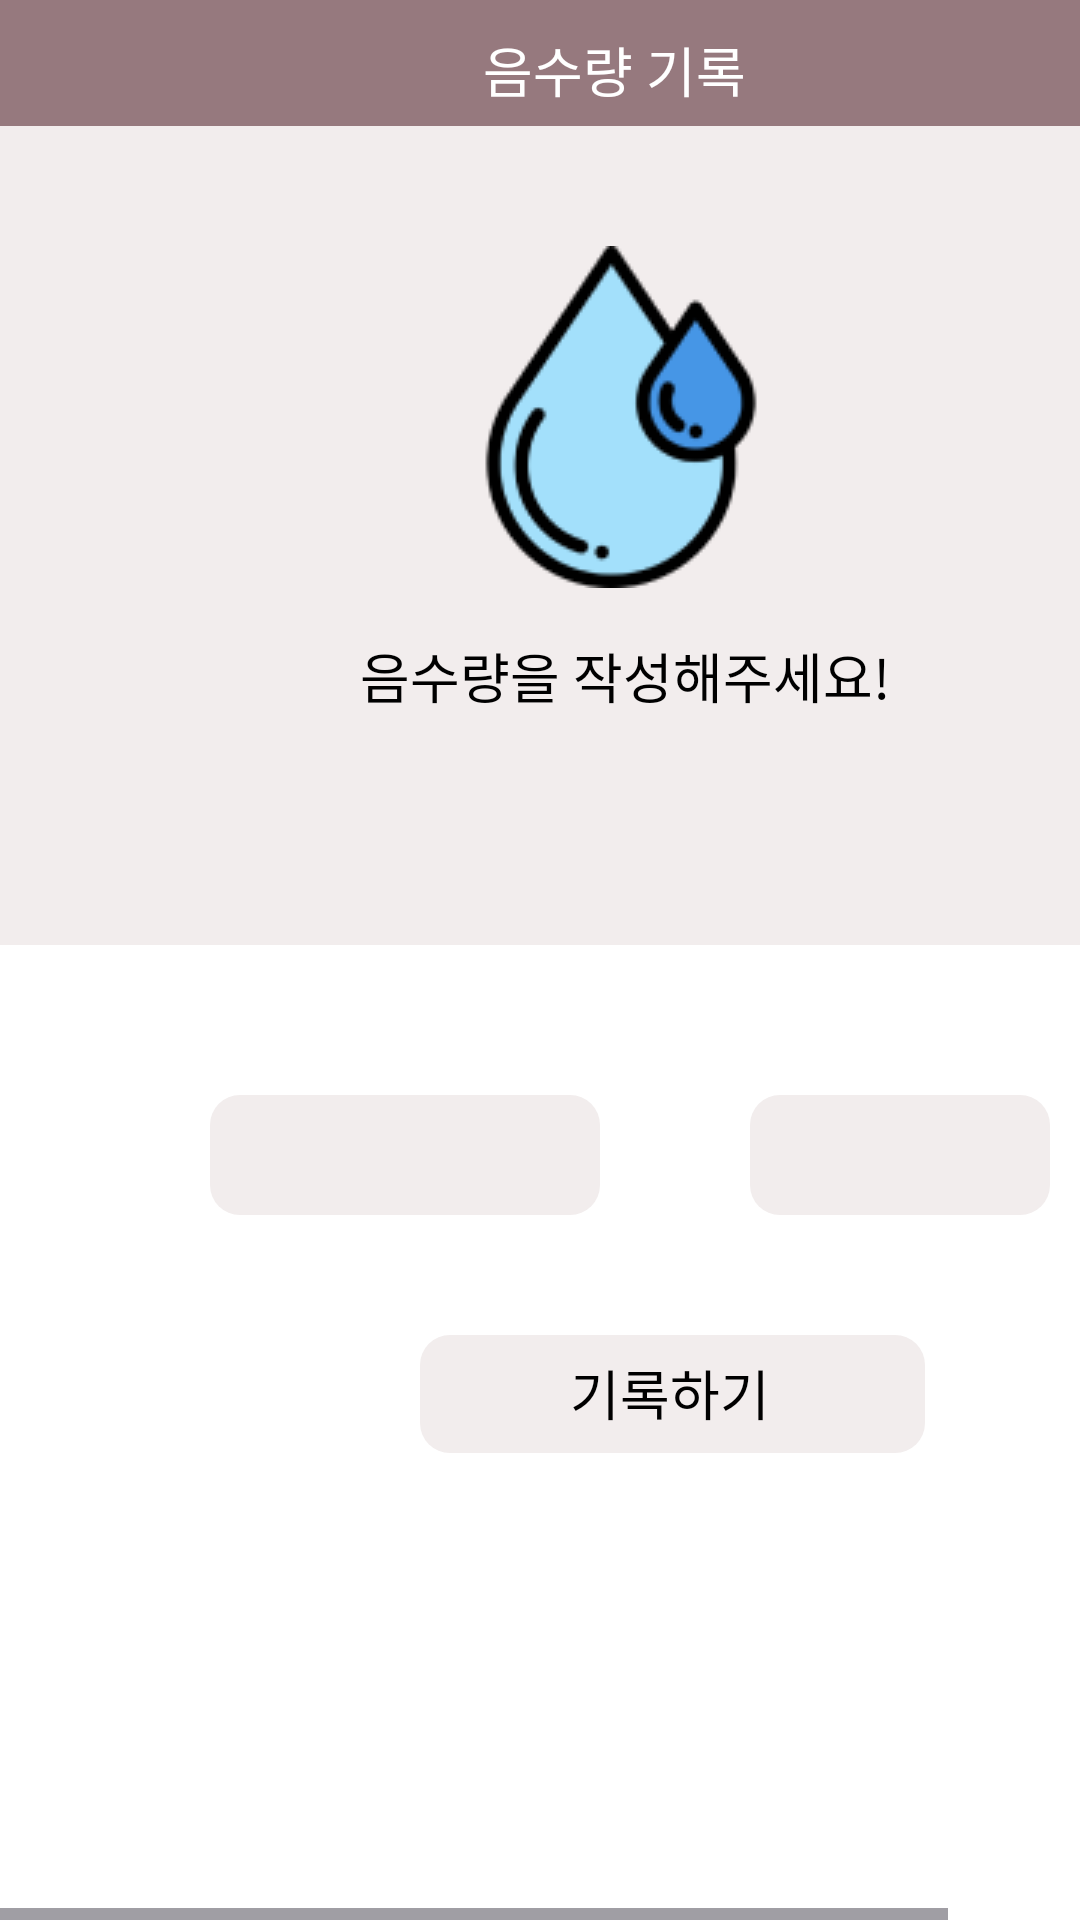

Where icons sit on this 1080x1920 app screen, as [left=x1, top=y1, right=x2, bottom=y2]:
water: [left=485, top=246, right=757, bottom=588]
